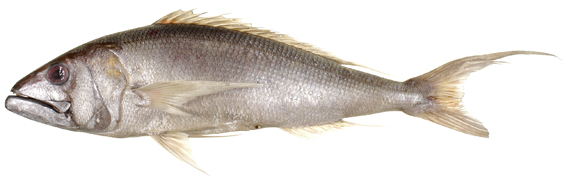fish: (5, 10, 556, 174)
